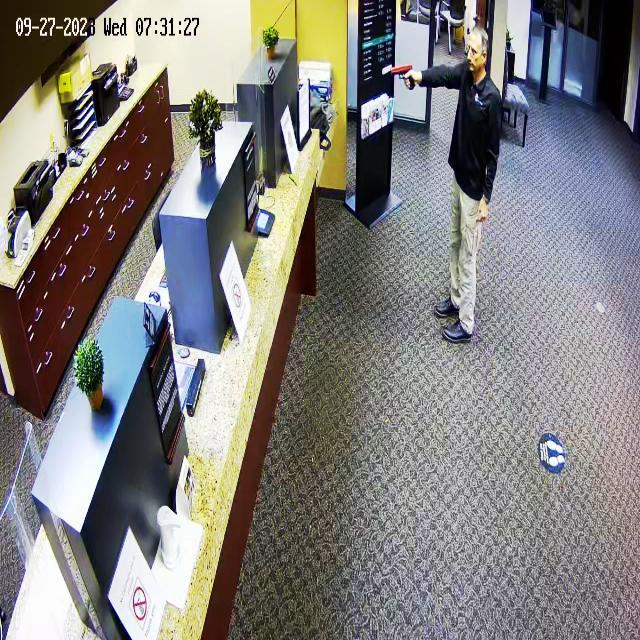Gun: (384, 54, 427, 94)
